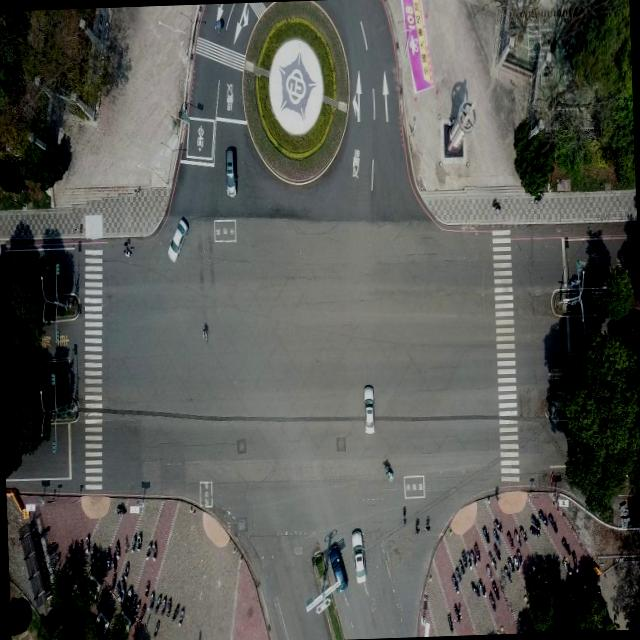bike: (618, 496, 628, 526), (559, 534, 570, 556), (384, 458, 394, 482), (463, 547, 472, 570), (480, 524, 490, 544), (489, 578, 498, 600), (472, 576, 481, 598), (162, 592, 170, 616), (514, 548, 522, 572), (549, 514, 558, 534), (472, 540, 480, 562), (146, 539, 154, 561), (530, 516, 538, 538), (504, 558, 512, 580), (452, 568, 459, 592), (178, 602, 185, 625), (446, 612, 454, 632), (122, 561, 130, 581), (116, 499, 126, 515), (453, 600, 461, 620), (151, 616, 159, 636), (486, 559, 494, 579), (519, 527, 527, 547), (560, 556, 568, 576), (135, 528, 142, 550), (113, 540, 120, 562), (124, 237, 132, 256), (494, 532, 502, 551), (493, 516, 501, 534), (506, 528, 513, 548), (202, 321, 209, 341), (542, 508, 549, 528), (144, 579, 151, 598), (154, 592, 160, 613), (171, 602, 177, 622), (402, 503, 406, 524)
car: (220, 134, 242, 202), (359, 381, 380, 438), (327, 546, 348, 598), (167, 216, 187, 260), (350, 526, 366, 581)
